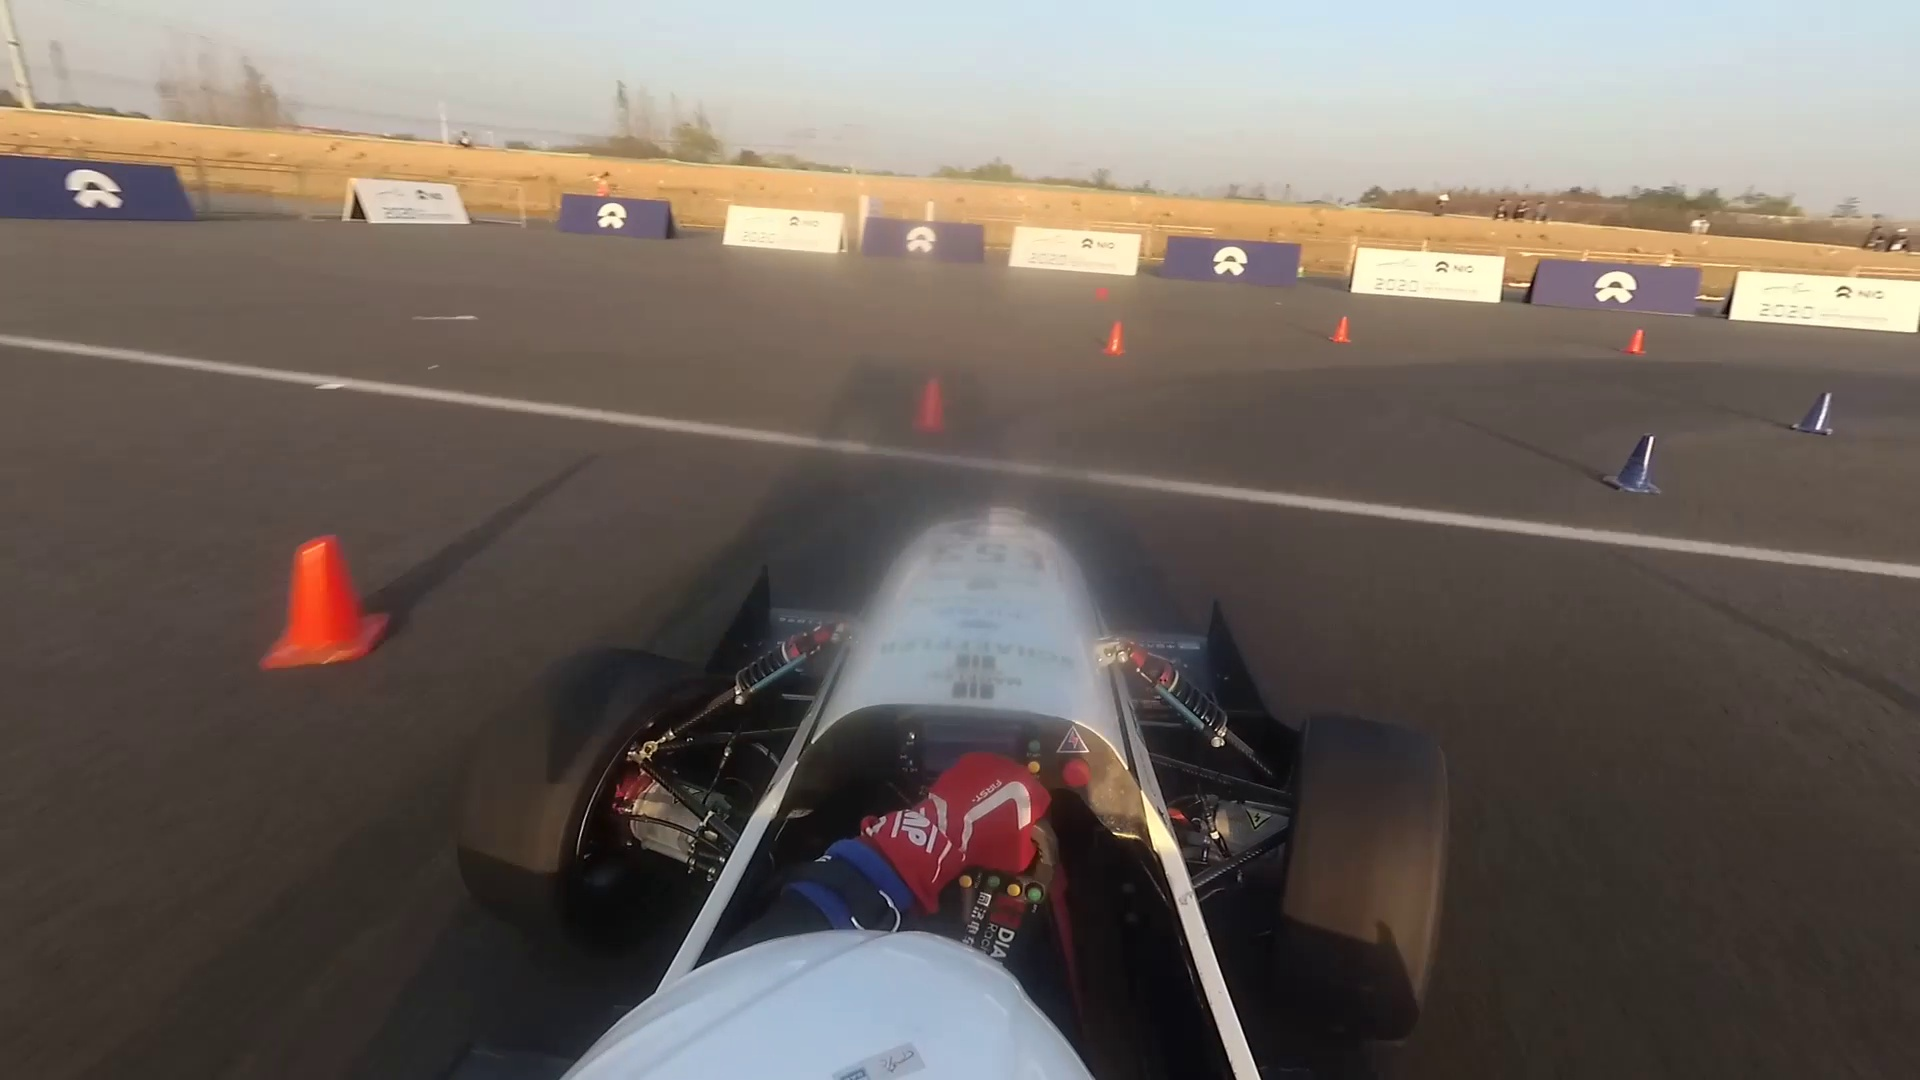blue_cone: (1604, 426, 1669, 502), (1785, 382, 1846, 448)
red_cone: (243, 543, 392, 679), (897, 375, 955, 429), (1089, 313, 1145, 367), (1327, 311, 1361, 352), (1622, 324, 1644, 355), (1093, 281, 1112, 302)
